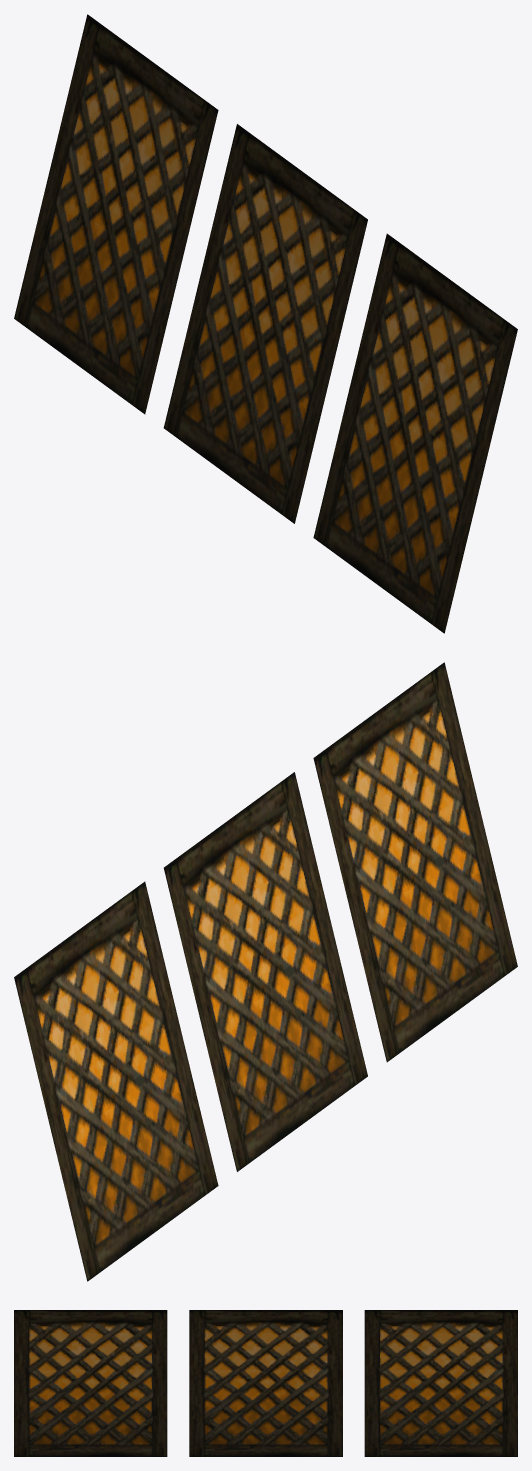
File: LAKETOWN_EXTERIOR_PS_LT_WINDOWS2490.fbx
3 views of the same model, one above another, from view 1: azimuth 30°, elevation 25°; view 2: azimuth 150°, elevation 25°; view 3: azimuth 270°, elevation 25° (orthographic). The views are drawn at different scales.
Visible parts, largest first — view 1: LAKETOWN_EXTERIOR_PS_LT_WINDOWS2490; view 2: LAKETOWN_EXTERIOR_PS_LT_WINDOWS2490; view 3: LAKETOWN_EXTERIOR_PS_LT_WINDOWS2490.
Boxes of the visible parts, bbox=[...] form: LAKETOWN_EXTERIOR_PS_LT_WINDOWS2490: bbox=[14, 14, 517, 633]; LAKETOWN_EXTERIOR_PS_LT_WINDOWS2490: bbox=[14, 662, 517, 1281]; LAKETOWN_EXTERIOR_PS_LT_WINDOWS2490: bbox=[14, 1310, 517, 1456].
Bounding box in the file's own units: 3391 × 12654 × 34449.
1 material, 1 textured.
